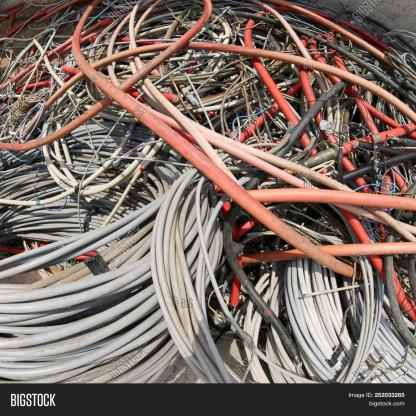wires: (1, 1, 415, 383)
